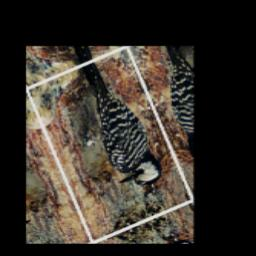Woodpecker: (49, 51, 172, 210)
